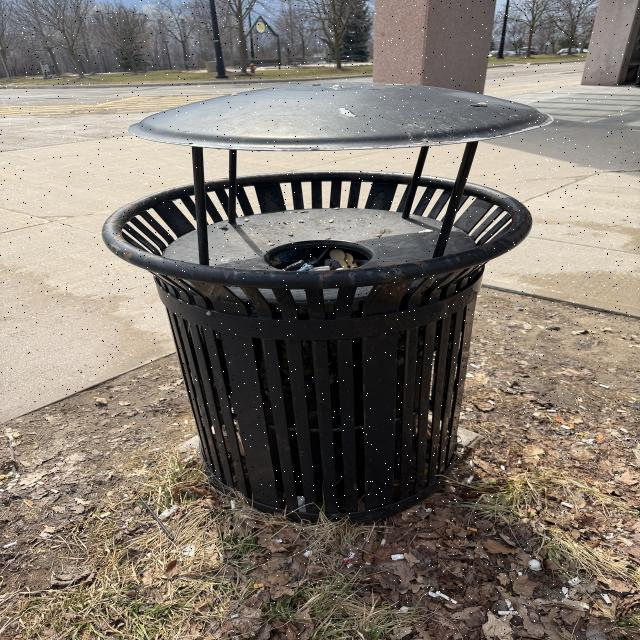Dustbin: (99, 82, 551, 520)
